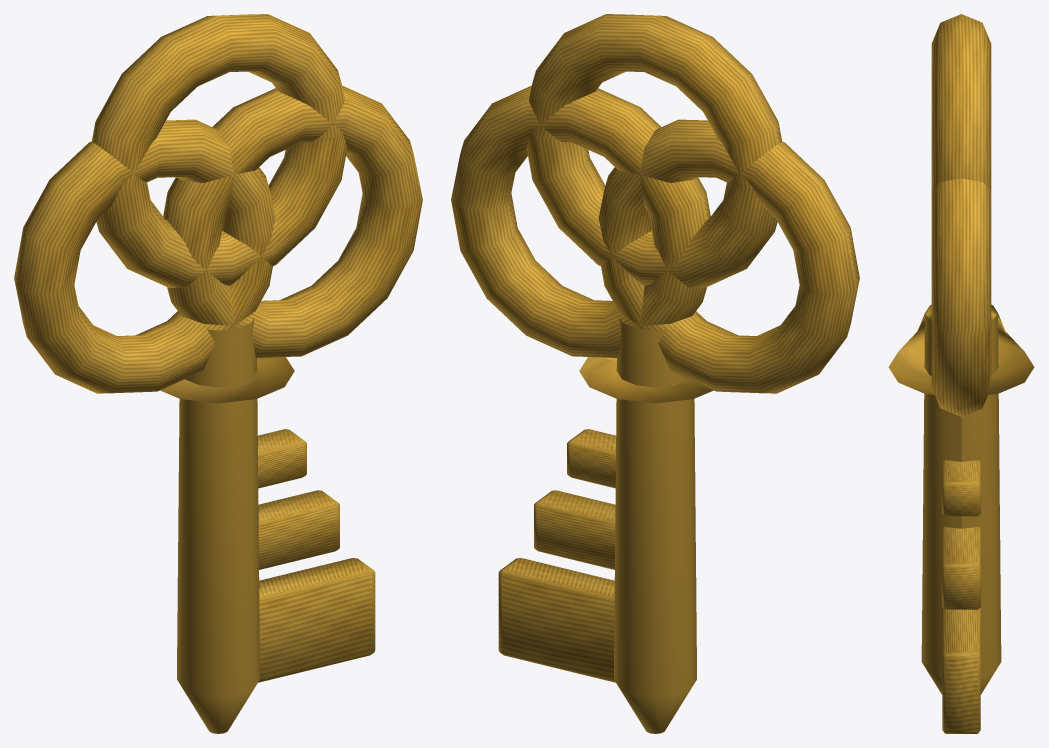
Rendered from key.glb.
The picture shows the model from 3 angles, left to right: view 1: azimuth 30°, elevation 25°; view 2: azimuth 150°, elevation 25°; view 3: azimuth 270°, elevation 25°; orthographic projection. The views are drawn at different scales.
Parts seen in each view (by area): view 1: PlatinumSealKey; view 2: PlatinumSealKey; view 3: PlatinumSealKey.
Boxes of the visible parts, x1=… form: PlatinumSealKey: x1=14, y1=14, x2=422, y2=733; PlatinumSealKey: x1=451, y1=14, x2=859, y2=733; PlatinumSealKey: x1=888, y1=14, x2=1034, y2=733.
Size of the model in its own units: 13.4 by 22.7 by 4.4.
Materials: 1 (1 with a texture image).
